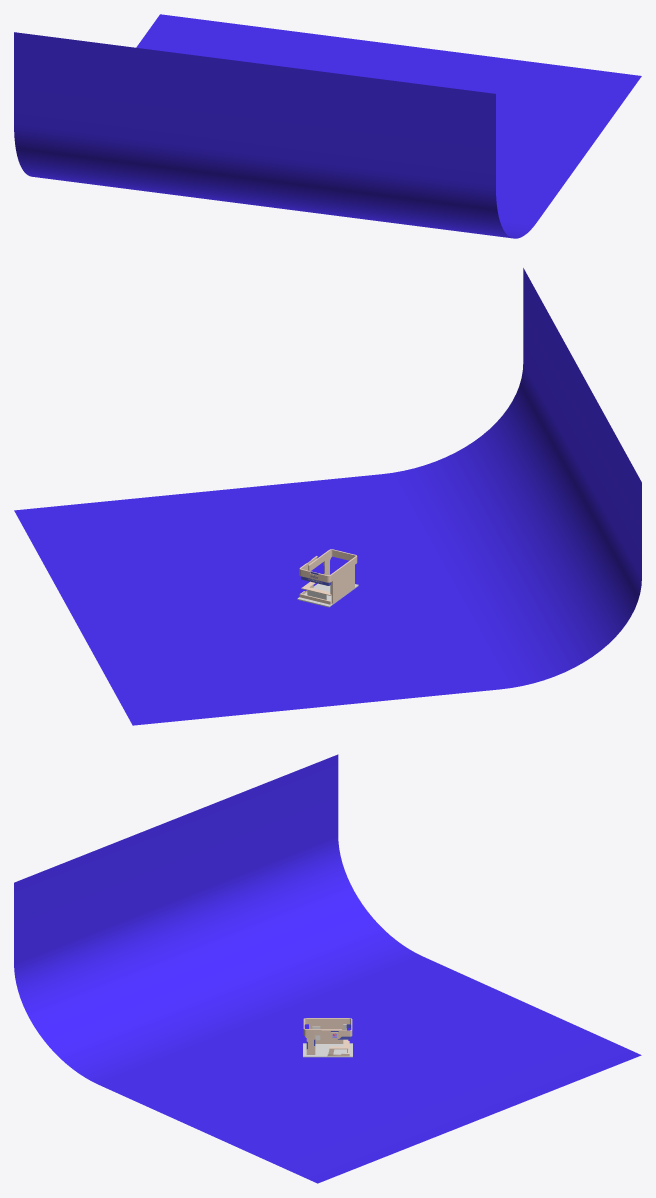
3 views of the same model, one above another, from view 1: azimuth 30°, elevation 25°; view 2: azimuth 150°, elevation 25°; view 3: azimuth 270°, elevation 25° (orthographic). The views are drawn at different scales.
Visible parts, largest first — view 1: 平面.008; view 2: 平面.008, 平面; view 3: 平面.008, 平面.
Part boxes in pixels (box(x1,y1,x2,y2)): 平面.008: box(14, 14, 641, 238); 平面.008: box(14, 268, 641, 725); 平面: box(299, 549, 357, 603); 平面.008: box(14, 754, 641, 1183); 平面: box(303, 1018, 352, 1054).
Size of the model in its own units: 100 by 28.8 by 100.
Materials: 7 (1 with a texture image).
